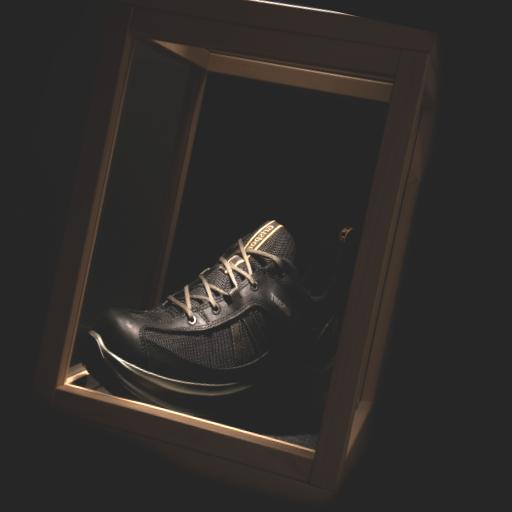shoe: (82, 221, 353, 415)
